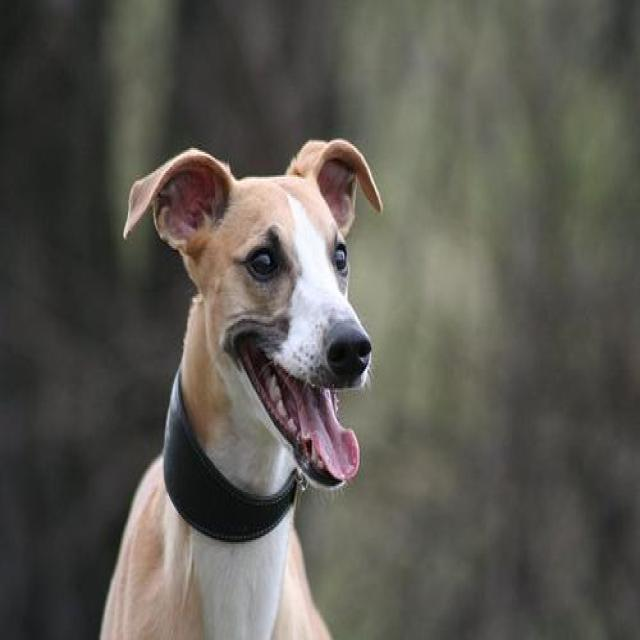happy: (109, 72, 453, 572)
